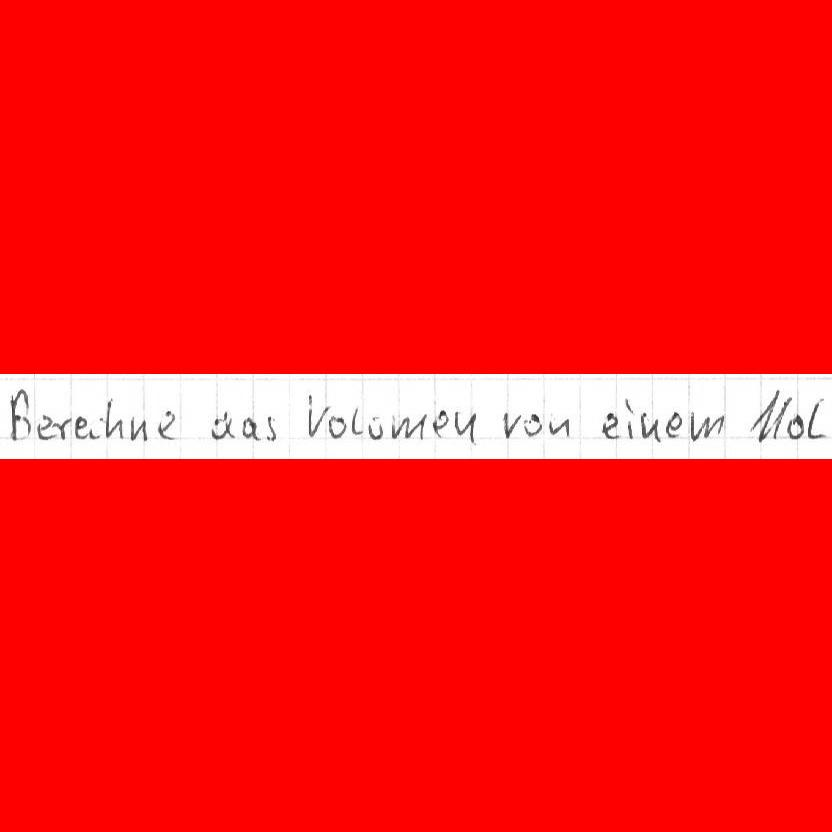Char: (749, 388, 791, 444), (8, 387, 32, 442), (689, 409, 725, 441), (805, 395, 830, 441), (307, 391, 330, 440), (390, 413, 428, 440), (209, 409, 237, 440), (104, 396, 124, 439), (453, 410, 477, 444), (639, 411, 663, 443), (155, 409, 178, 442), (623, 396, 637, 440), (430, 409, 450, 439), (501, 410, 522, 438), (548, 415, 572, 439), (601, 411, 620, 441), (52, 415, 73, 442), (349, 403, 365, 438), (522, 410, 542, 438), (786, 412, 806, 440), (665, 410, 684, 439), (240, 415, 261, 441), (326, 414, 347, 439), (128, 416, 148, 442), (36, 413, 54, 440), (88, 415, 105, 441), (263, 413, 278, 442), (367, 416, 384, 440), (74, 413, 88, 438)
